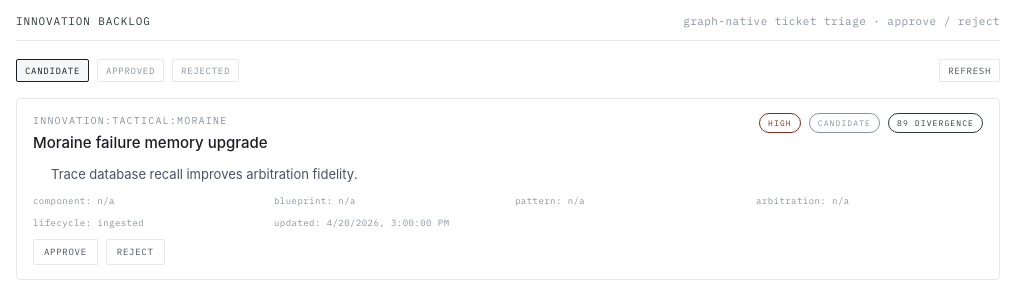
Test case: InnovationBacklogPane › approves a ticket and removes it from the candidate list
Click the button "approve": (65, 252) [33,239,98,264]
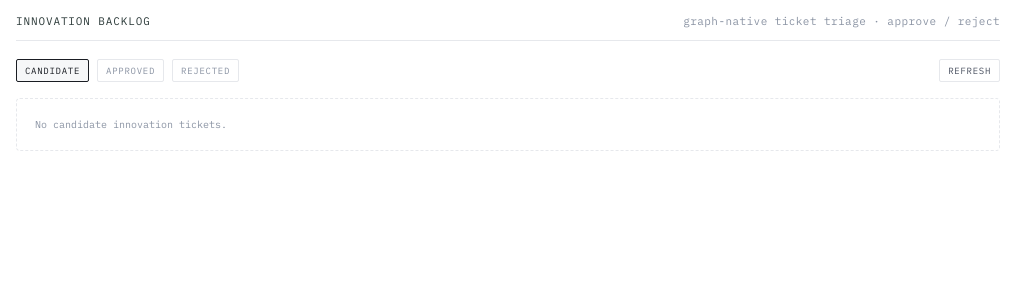
Check: the text "No candidate innovation tickets." is shown, box [16,98,1000,151]
